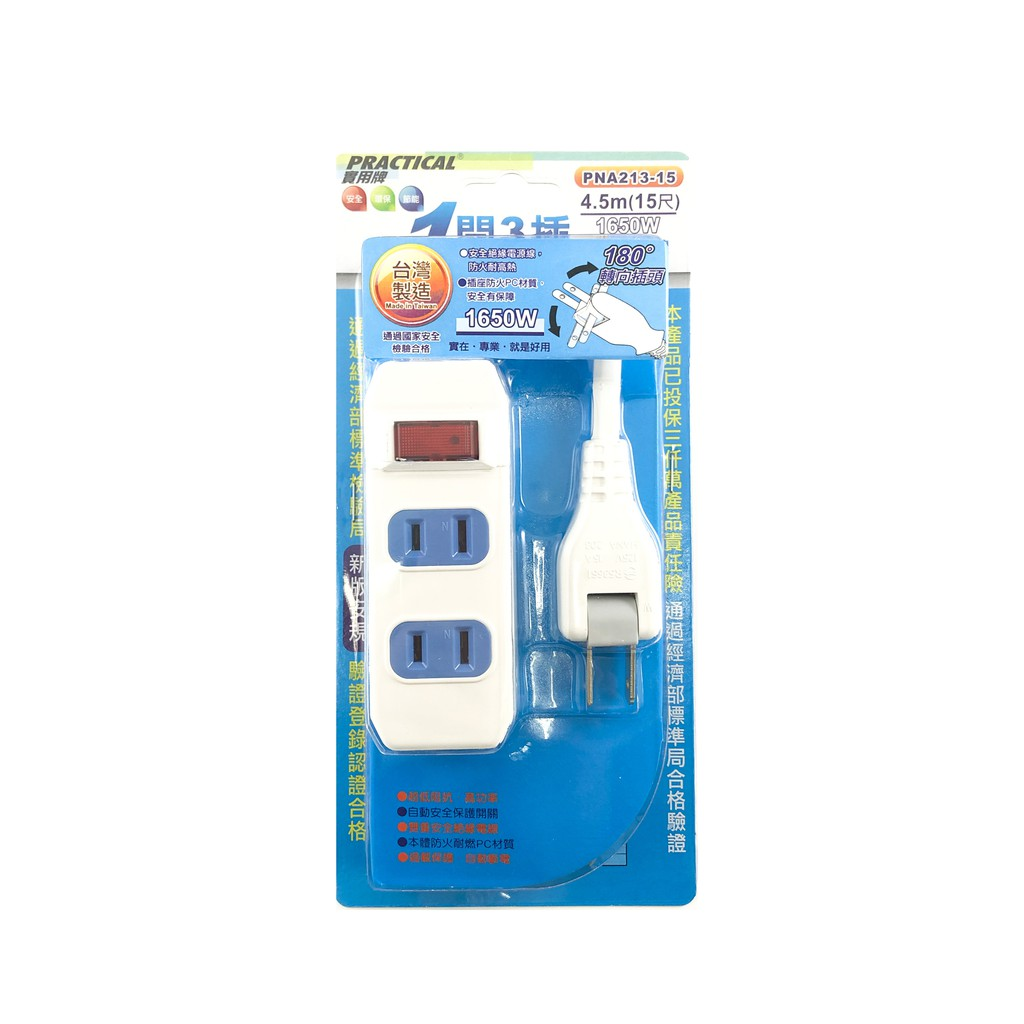socket: (364, 357, 522, 761)
